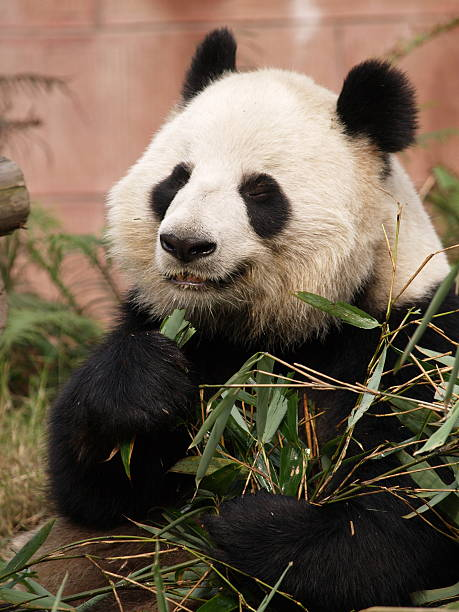panda: (68, 16, 421, 382)
